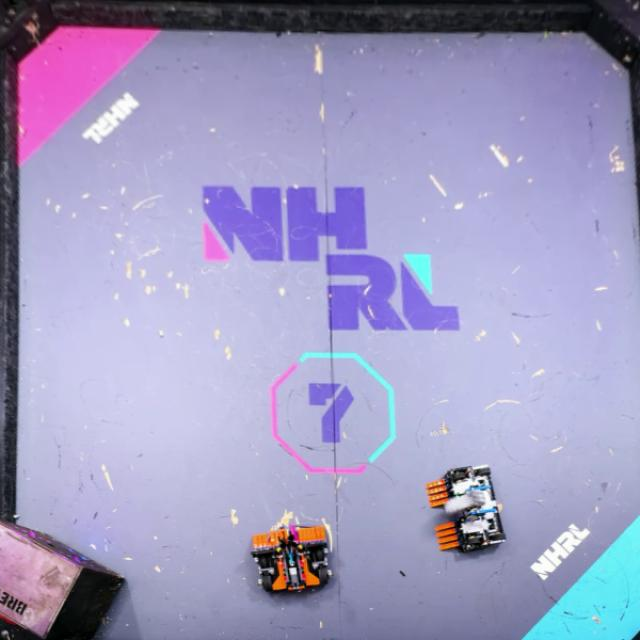housebot: (0, 519, 128, 640)
robot: (426, 464, 506, 552), (252, 525, 330, 595)
